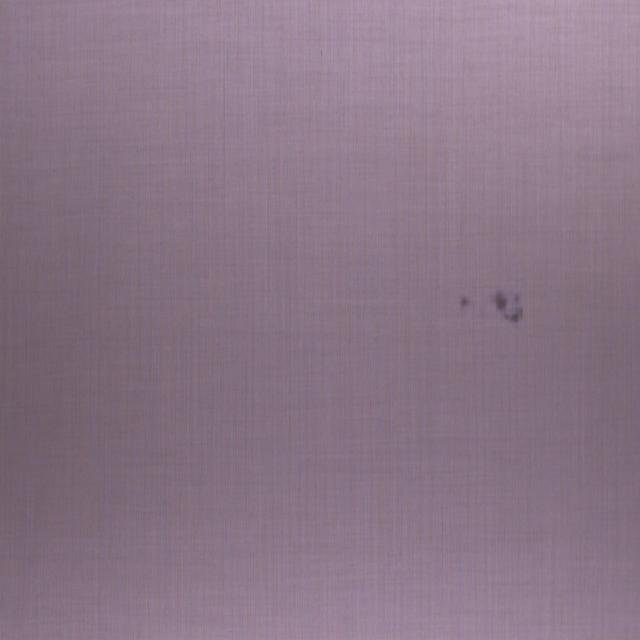dirty: (493, 289, 526, 326), (458, 295, 470, 308)
